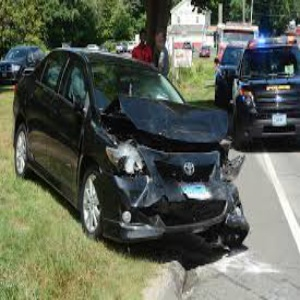bonnet: (114, 91, 231, 144)
bumper: (92, 171, 238, 239)
